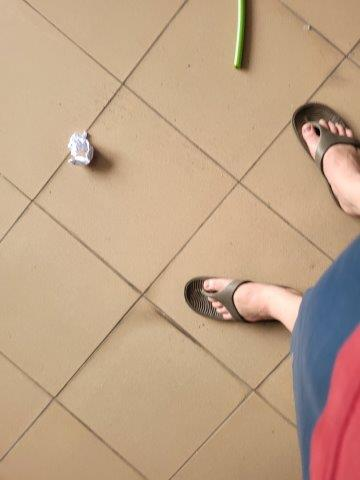kertas: (68, 134, 94, 168)
